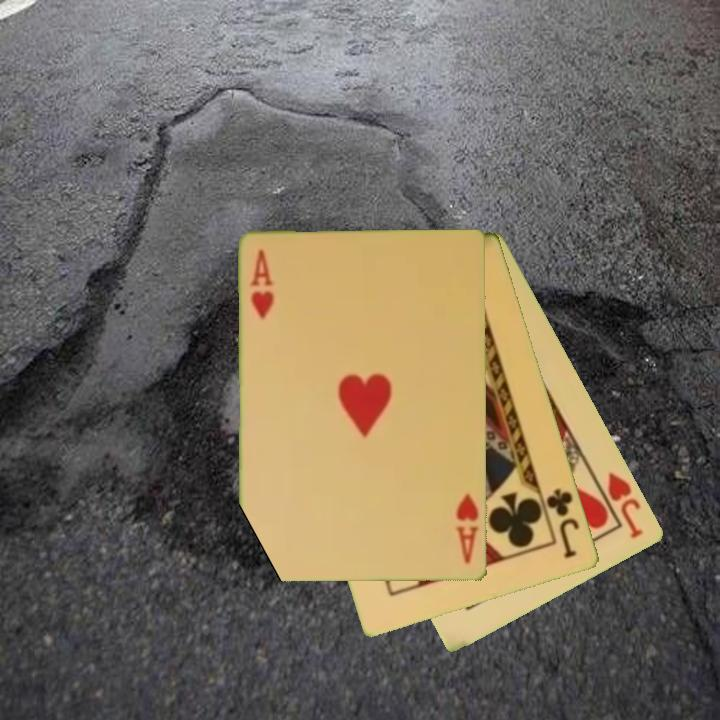Ah: (247, 246, 277, 322), (453, 490, 482, 567)
Jc: (543, 485, 583, 562)
Jh: (604, 468, 647, 542)
